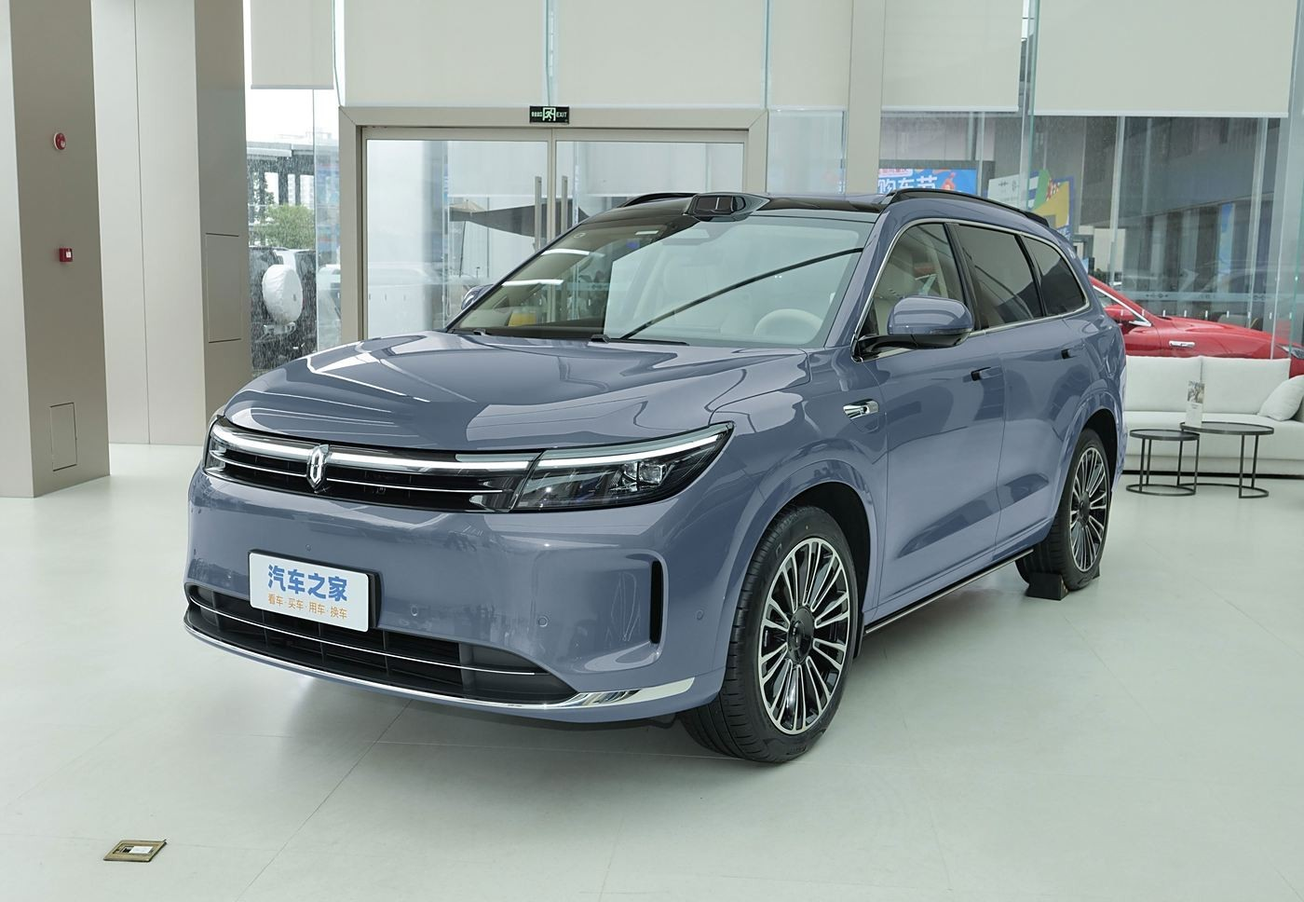AITO: (311, 449, 322, 483)
